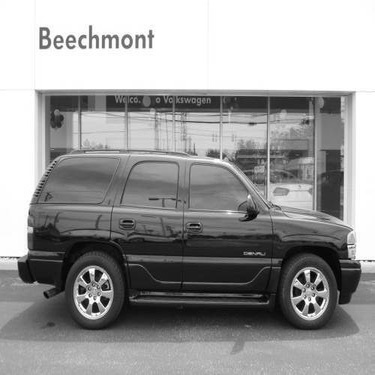car: (11, 144, 365, 325), (229, 169, 318, 212), (304, 167, 348, 214)
